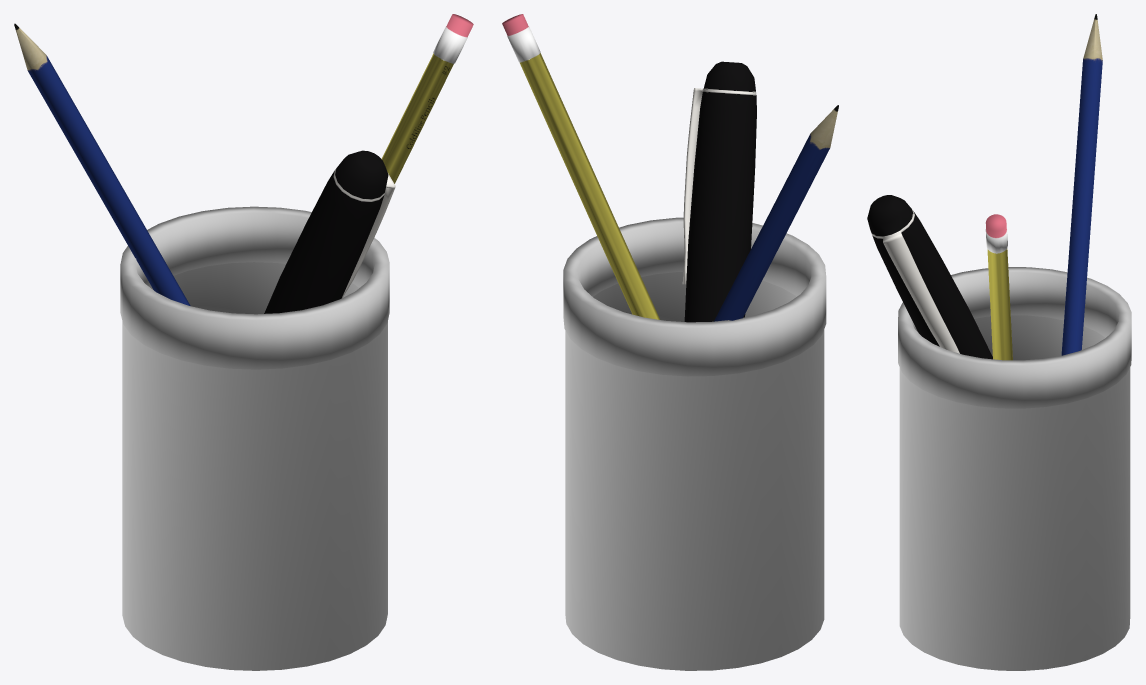
The model's file is potACrayon.gltf.
3 views of the same model, side by side, from view 1: azimuth 30°, elevation 25°; view 2: azimuth 150°, elevation 25°; view 3: azimuth 270°, elevation 25° (orthographic). The views are drawn at different scales.
Parts seen in each view (by area): view 1: SM_PencilPot, FountainPen2, pencil2, EraserPencil2; view 2: SM_PencilPot, FountainPen2, EraserPencil2, pencil2; view 3: SM_PencilPot, FountainPen2, pencil2, EraserPencil2.
Boxes of the visible parts, x1,y1,x2,y2 form: SM_PencilPot: (120, 206, 389, 670); FountainPen2: (264, 150, 395, 313); pencil2: (14, 23, 190, 305); EraserPencil2: (381, 14, 473, 183); SM_PencilPot: (563, 217, 826, 670); FountainPen2: (682, 61, 756, 322); EraserPencil2: (502, 14, 659, 319); pencil2: (714, 105, 838, 321); SM_PencilPot: (898, 267, 1131, 670); FountainPen2: (867, 195, 992, 359); pencil2: (1061, 14, 1102, 355); EraserPencil2: (985, 214, 1012, 360).
Bounding box in the file's own units: 0.1146 × 0.1665 × 0.0753.
